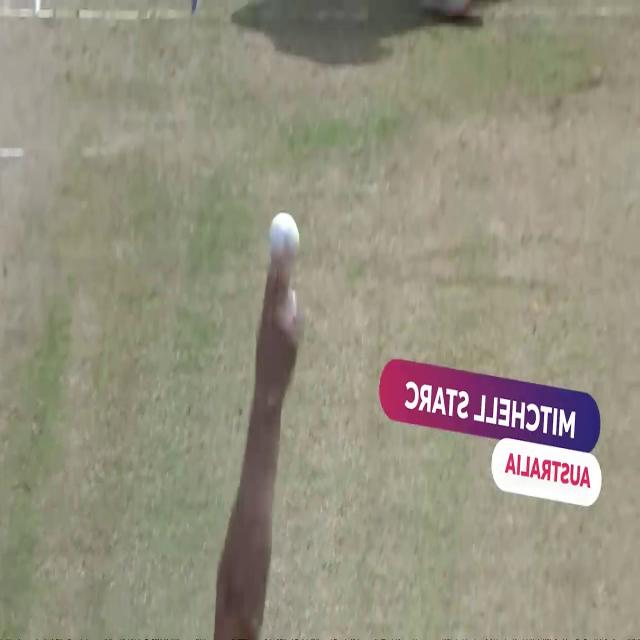ball: (259, 207, 301, 274)
